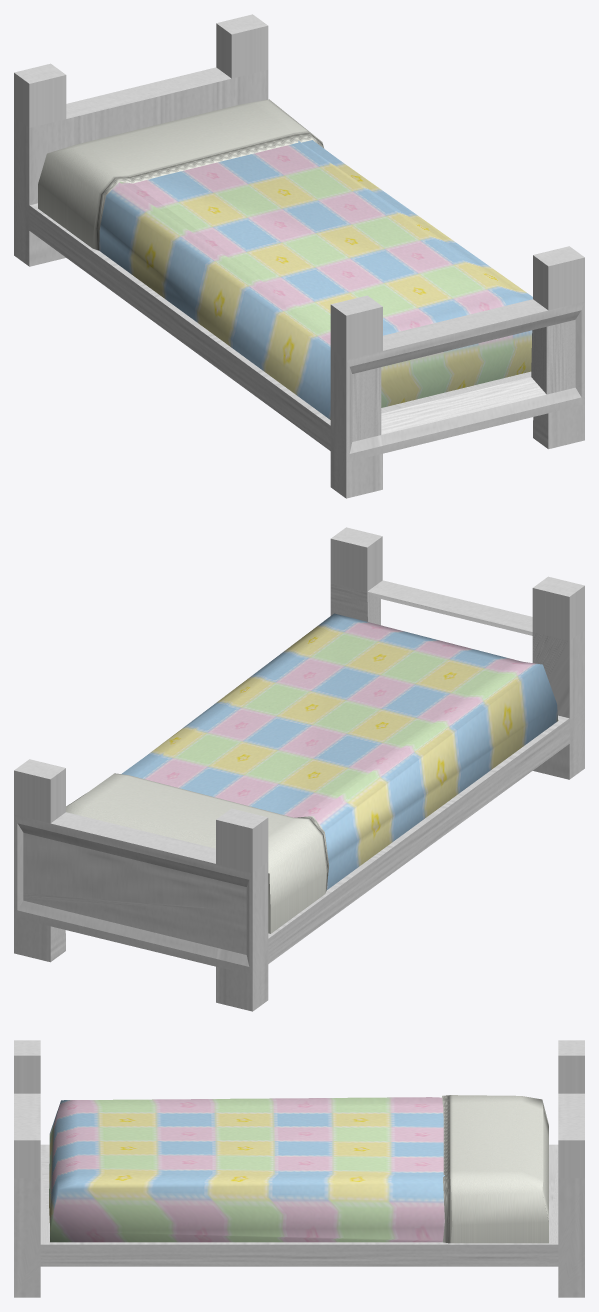
Rendered from Kiddie_Bed_G.FBX.
The picture shows the model from 3 angles, top to bottom: view 1: azimuth 30°, elevation 25°; view 2: azimuth 150°, elevation 25°; view 3: azimuth 270°, elevation 25°; orthographic projection. The views are drawn at different scales.
Parts seen in each view (by area): view 1: Kiddie_Bed; view 2: Kiddie_Bed; view 3: Kiddie_Bed.
Boxes of the visible parts, x1,y1,x2,y2 form: Kiddie_Bed: [14, 14, 584, 498]; Kiddie_Bed: [14, 527, 584, 1011]; Kiddie_Bed: [14, 1040, 584, 1297].
Bounding box in the file's own units: 185 × 135 × 445.
